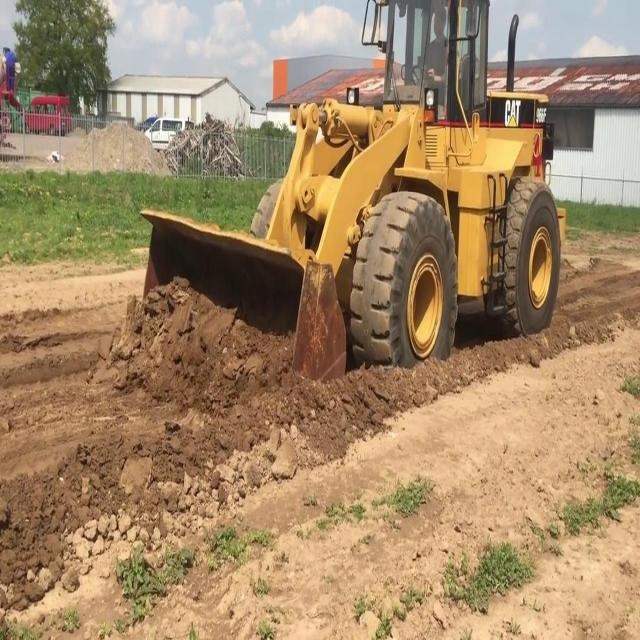Loader: (136, 1, 562, 384)
